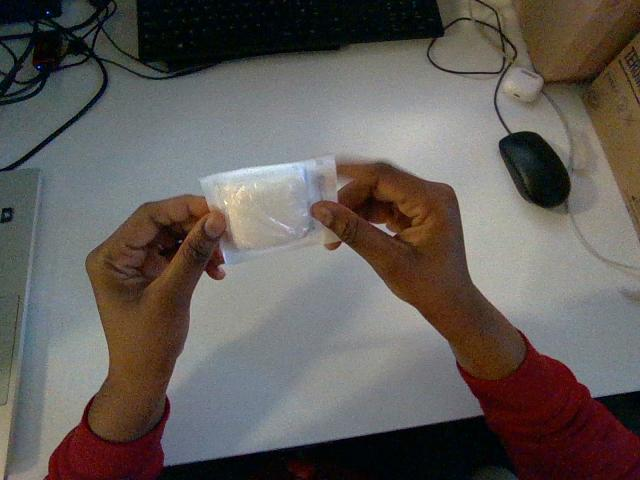gauze: (200, 156, 336, 263)
